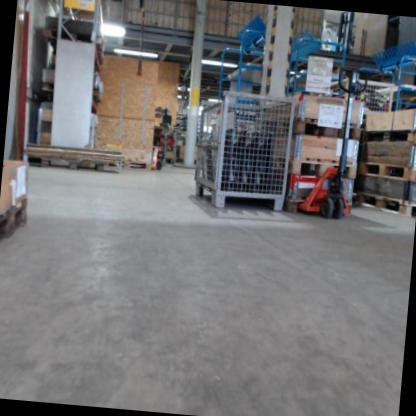pallet: (294, 113, 364, 143), (289, 154, 361, 182), (356, 190, 416, 220), (287, 194, 354, 219), (0, 195, 28, 249), (361, 124, 416, 149), (359, 159, 416, 183), (41, 155, 105, 172), (105, 158, 152, 171)
pallet_truck: (297, 61, 372, 221), (149, 103, 174, 173)
stillage: (190, 87, 298, 214)
